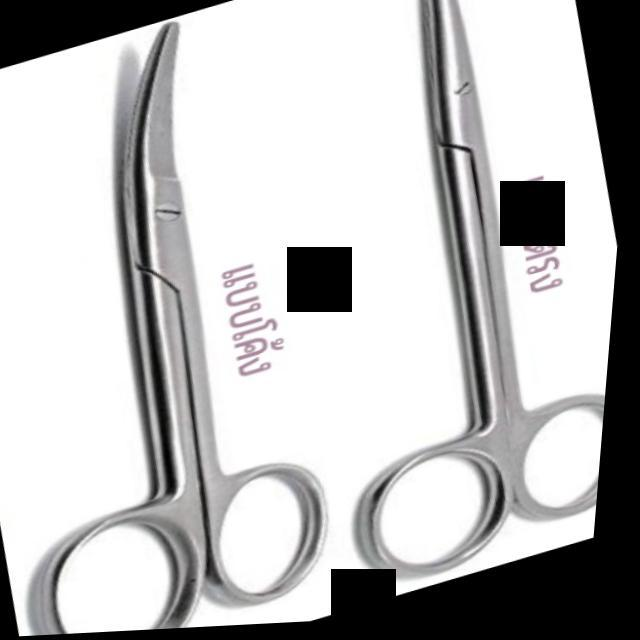Curved Mayo: (0, 0, 395, 640)
Straight Mayo: (222, 0, 640, 606)
